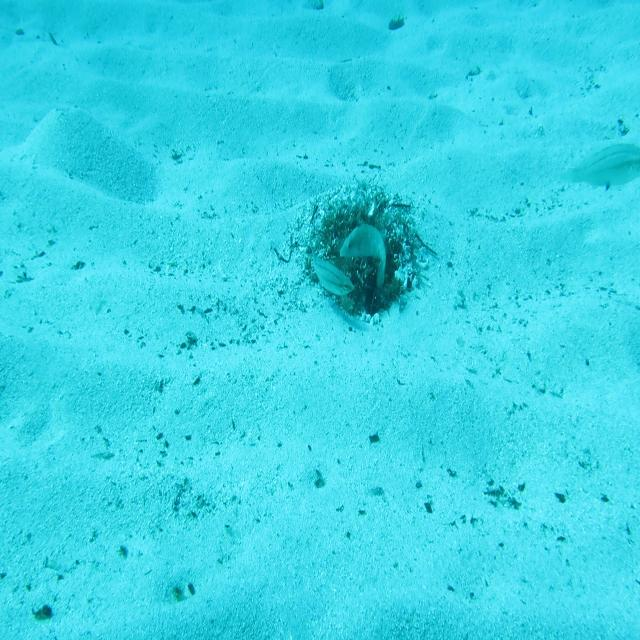DAN_CIRC: (339, 220, 387, 290)
female: (305, 242, 355, 302)
nest: (314, 188, 426, 324)
other_fish: (558, 138, 640, 193)
